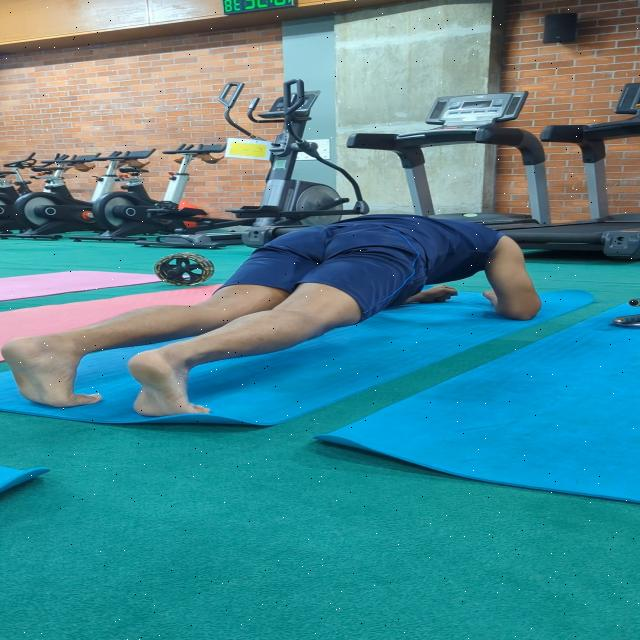Normal_Plunk: (0, 212, 528, 433)
